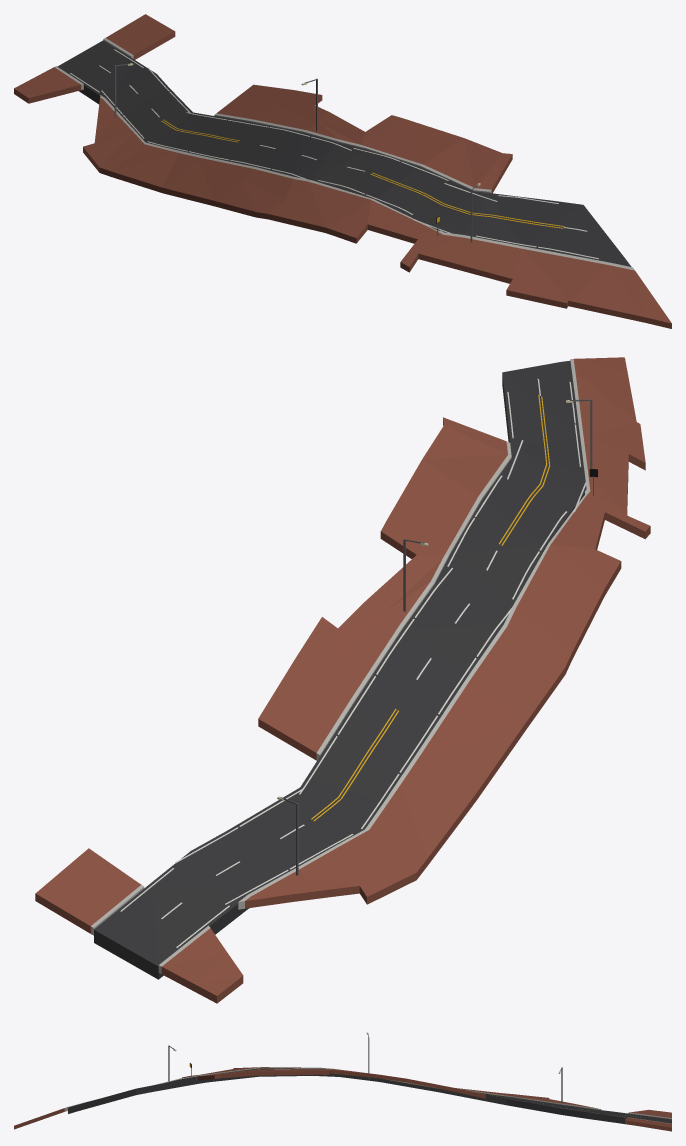
The picture shows the model from 3 angles, top to bottom: view 1: azimuth 30°, elevation 25°; view 2: azimuth 150°, elevation 25°; view 3: azimuth 270°, elevation 25°; orthographic projection. The views are drawn at different scales.
Bounding box in the file's own units: 27.89 × 19.61 × 109.
